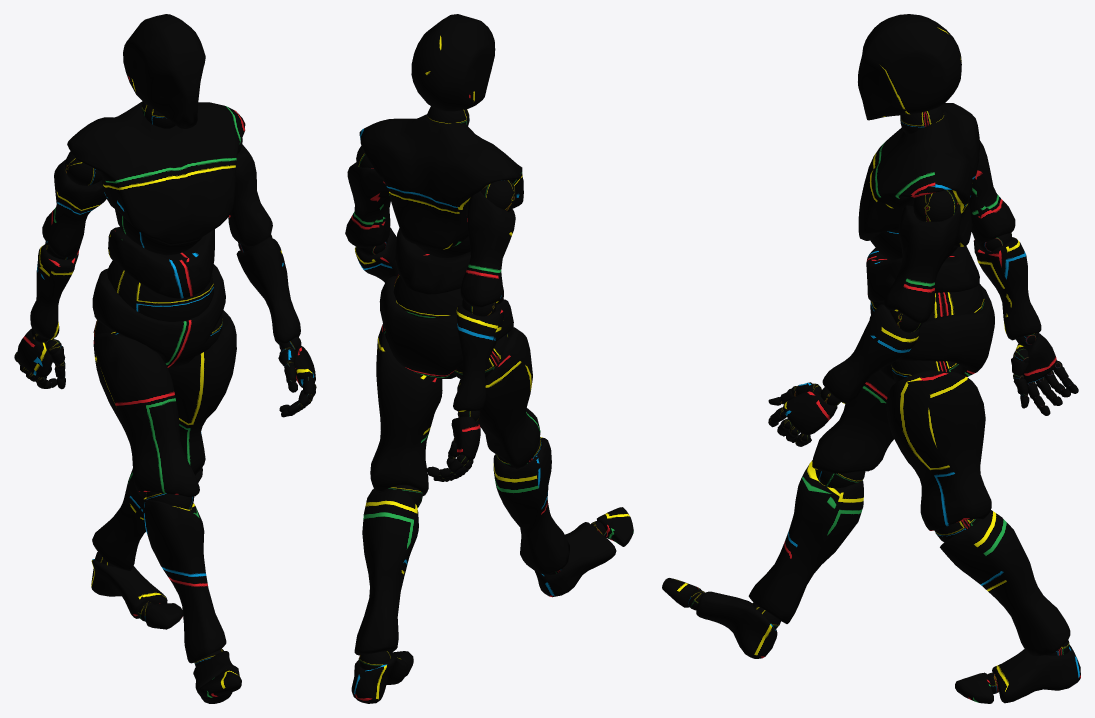
File: y-bot-origin_000004.obj
3 views of the same model, side by side, from view 1: azimuth 30°, elevation 25°; view 2: azimuth 150°, elevation 25°; view 3: azimuth 270°, elevation 25° (orthographic). The views are drawn at different scales.
Parts seen in each view (by area): view 1: Alpha_Surface_Alpha_SurfaceMesh, Alpha_Joints_Alpha_JointsMesh; view 2: Alpha_Surface_Alpha_SurfaceMesh, Alpha_Joints_Alpha_JointsMesh; view 3: Alpha_Surface_Alpha_SurfaceMesh, Alpha_Joints_Alpha_JointsMesh.
Part boxes in pixels (<box>): Alpha_Surface_Alpha_SurfaceMesh: <box>15,14,315,703</box>; Alpha_Joints_Alpha_JointsMesh: <box>14,102,316,673</box>; Alpha_Surface_Alpha_SurfaceMesh: <box>345,14,633,703</box>; Alpha_Joints_Alpha_JointsMesh: <box>355,106,606,669</box>; Alpha_Surface_Alpha_SurfaceMesh: <box>662,14,1080,703</box>; Alpha_Joints_Alpha_JointsMesh: <box>688,106,1071,693</box>.
Bounding box in the file's own units: 0.5401 × 1.75 × 0.9961.
